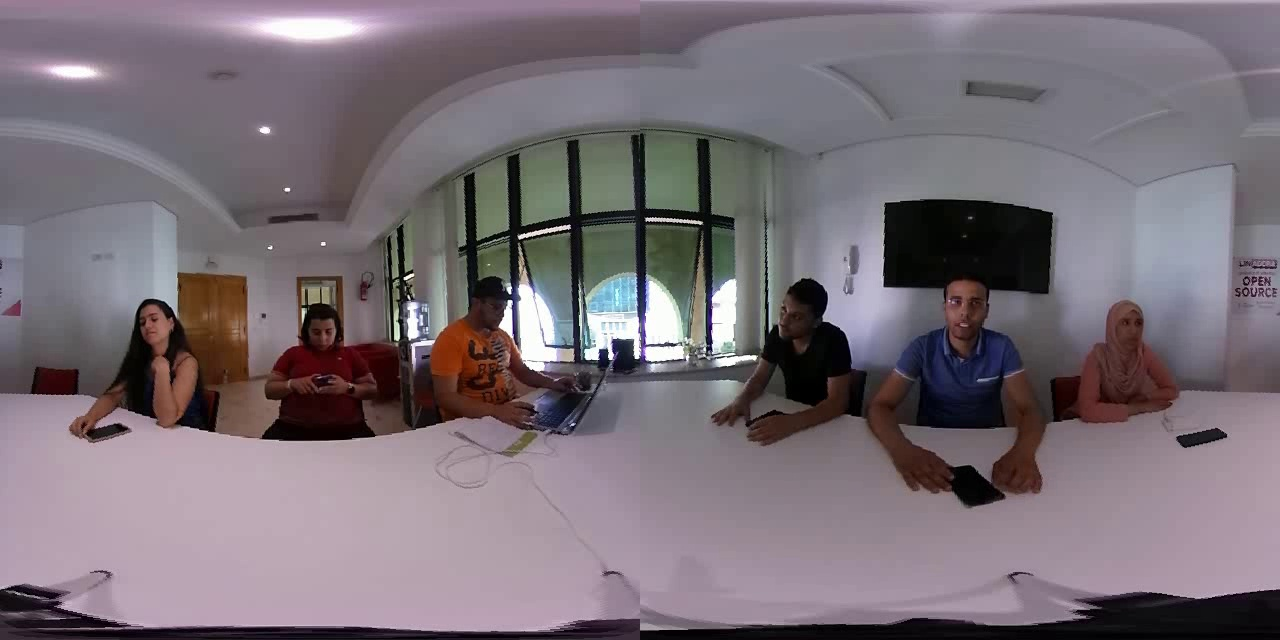person: (872, 252, 1043, 480), (719, 260, 859, 437), (242, 280, 388, 447), (424, 265, 558, 428), (76, 282, 207, 432), (1061, 279, 1187, 430)
